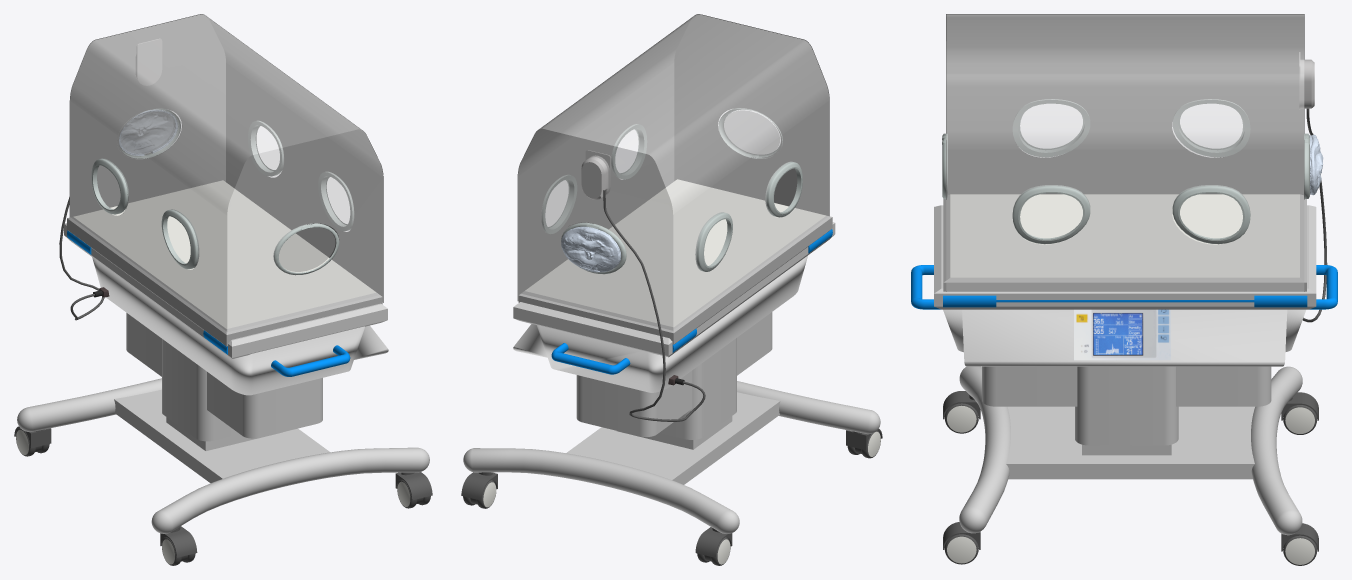
Rendered from incubator.glb.
3 renders of one model, left to right at view 1: azimuth 30°, elevation 25°; view 2: azimuth 150°, elevation 25°; view 3: azimuth 270°, elevation 25°, orthographic. The views are drawn at different scales.
Visible parts, largest first — view 1: object 32, object 5, object 12, object 26, object 17, object 14, object 22, object 15, object 23, Object_47, object 4, object 2 (+13 smaller); view 2: object 32, object 5, object 12, object 23, object 17, object 13, object 22, object 15, object 26, Object_47, object 4, object 14 (+13 smaller); view 3: object 32, object 5, object 12, object 17, object 15, object 22, object 20, object 23, object 26, object 14, object 13, object 37 (+15 smaller).
Part boxes in pixels (bbox=[...]): object 32: bbox=[69, 14, 383, 332]; object 5: bbox=[67, 180, 382, 346]; object 12: bbox=[92, 257, 388, 395]; object 26: bbox=[151, 447, 429, 533]; object 17: bbox=[114, 389, 329, 483]; object 14: bbox=[207, 372, 322, 438]; object 22: bbox=[64, 223, 387, 358]; object 15: bbox=[162, 339, 239, 441]; object 23: bbox=[17, 378, 161, 431]; Object_47: bbox=[119, 109, 178, 155]; object 4: bbox=[279, 227, 335, 271]; object 2: bbox=[121, 111, 175, 154]; object 32: bbox=[517, 14, 829, 330]; object 5: bbox=[518, 179, 832, 344]; object 12: bbox=[513, 255, 807, 392]; object 23: bbox=[463, 448, 739, 533]; object 17: bbox=[566, 392, 780, 484]; object 13: bbox=[576, 370, 692, 436]; object 22: bbox=[513, 222, 835, 357]; object 15: bbox=[659, 338, 736, 439]; object 26: bbox=[737, 381, 880, 434]; Object_47: bbox=[561, 226, 621, 272]; object 4: bbox=[723, 110, 779, 154]; object 14: bbox=[737, 312, 772, 375]; object 32: bbox=[946, 14, 1304, 291]; object 5: bbox=[943, 194, 1306, 291]; object 12: bbox=[943, 309, 1305, 366]; object 17: bbox=[1006, 406, 1254, 479]; object 15: bbox=[1075, 366, 1178, 445]; object 22: bbox=[934, 205, 1316, 309]; object 20: bbox=[1074, 309, 1170, 360]; object 23: bbox=[1251, 366, 1302, 535]; object 26: bbox=[959, 366, 1010, 533]; object 14: bbox=[982, 366, 1077, 406]; object 13: bbox=[1176, 366, 1271, 406]; object 37: bbox=[1172, 185, 1250, 244].
Size of what is drawn, in the model's own units: 5.62 by 7.65 by 6.55.
15 materials, 2 textured.
